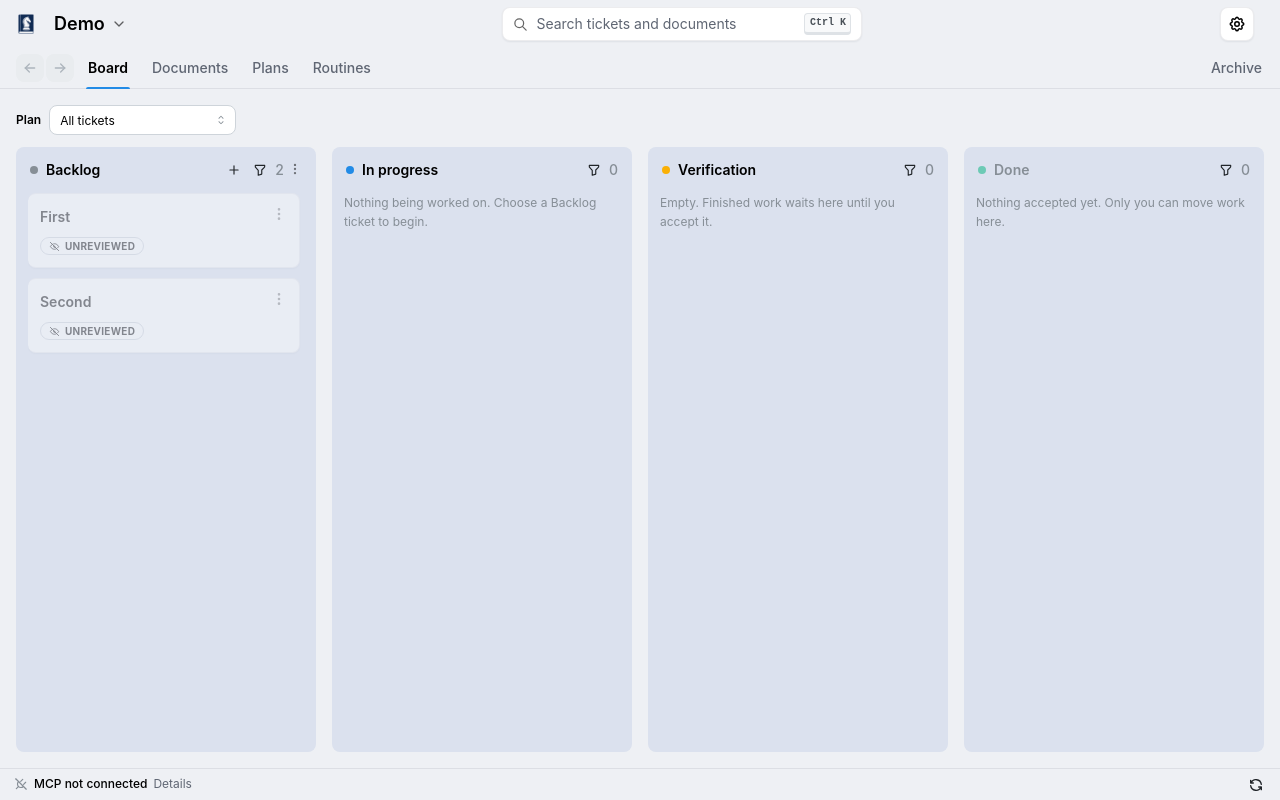
Scenario: archiving a whole column › names the column and the exact count before doing anything
expect the text "First" is shown: met, box x1=40 y1=208 x2=70 y2=225
Step 1. Click the button named "actions for the backlog column" → coordinates (295, 170), box x1=288 y1=162 x2=302 y2=178
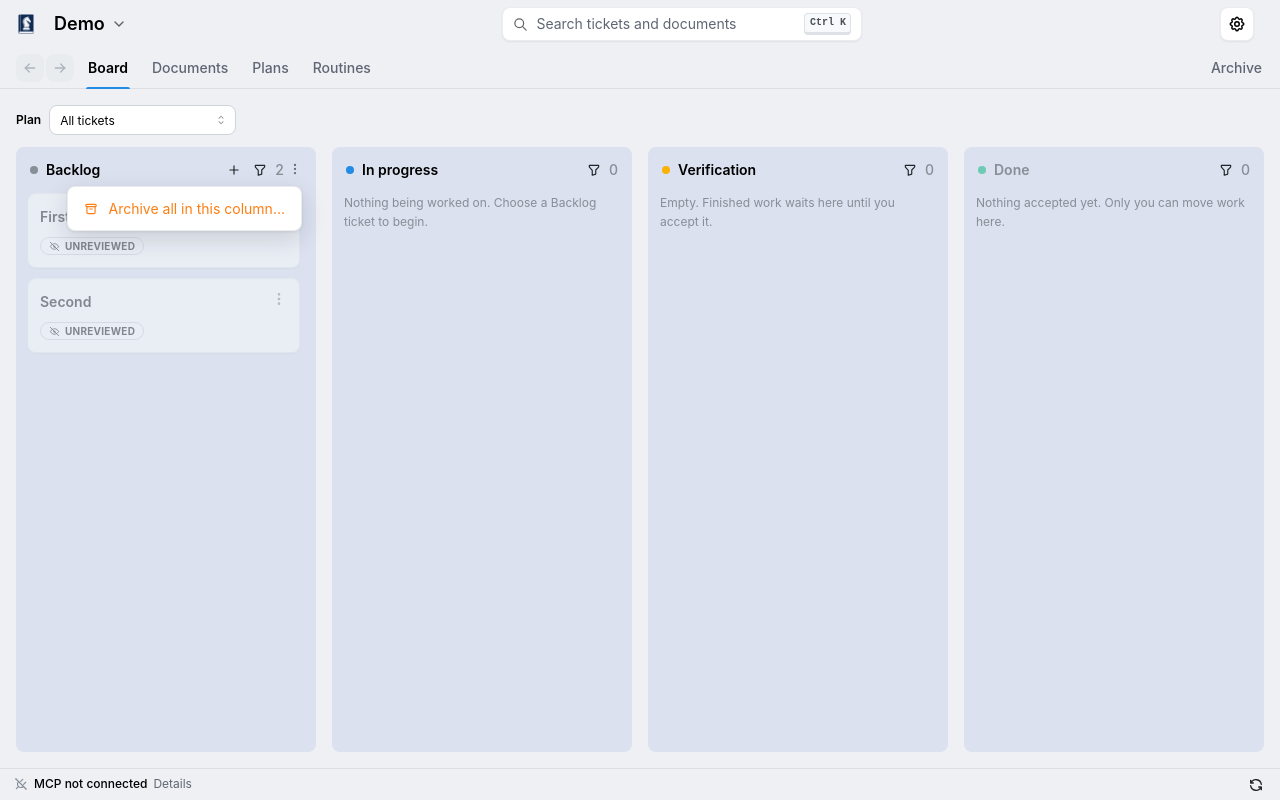
Step 2. Click the menu item "Archive all in this column…" → coordinates (185, 208), box x1=72 y1=191 x2=297 y2=226
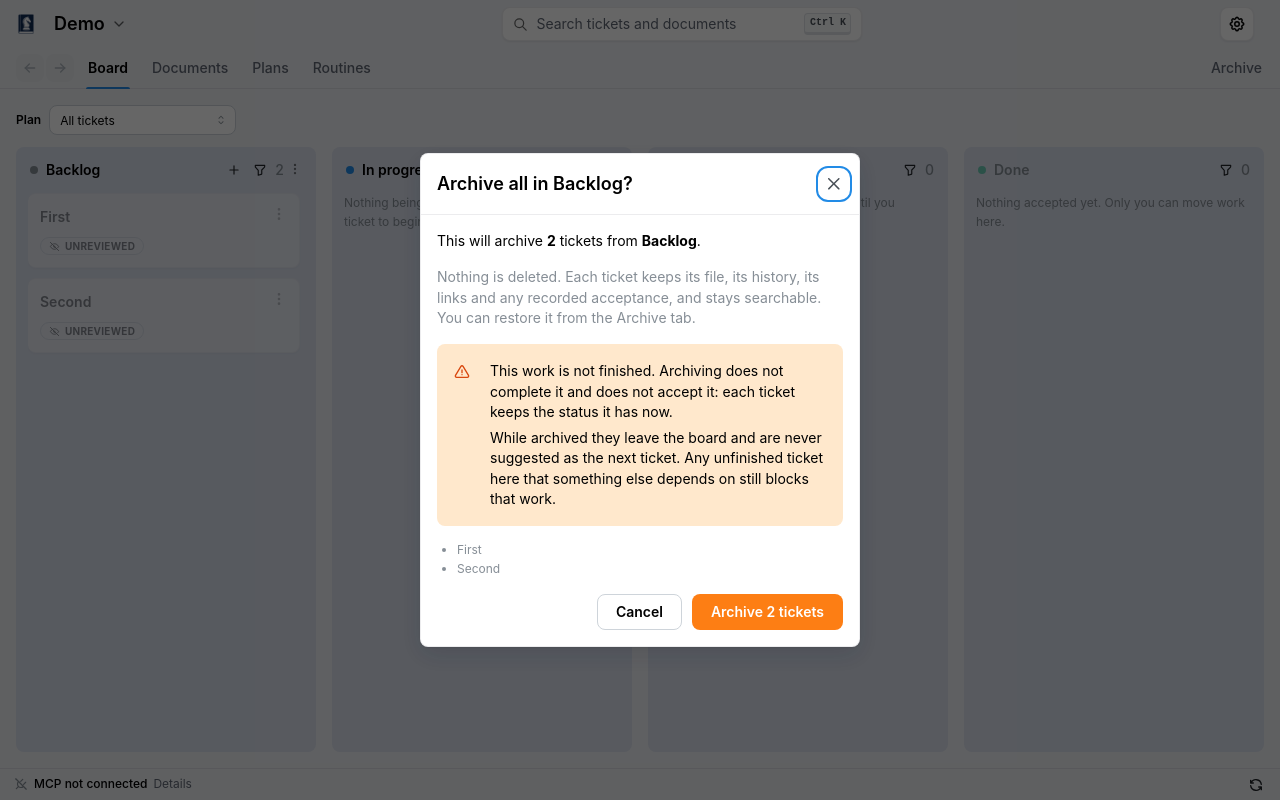
expect the heading "Archive all in Backlog?" is shown: met, box x1=437 y1=172 x2=633 y2=196
expect the text "2" is shown: met, box x1=547 y1=232 x2=556 y2=249
expect the text "Nothing is deleted" is shown: met, box x1=437 y1=268 x2=821 y2=326
